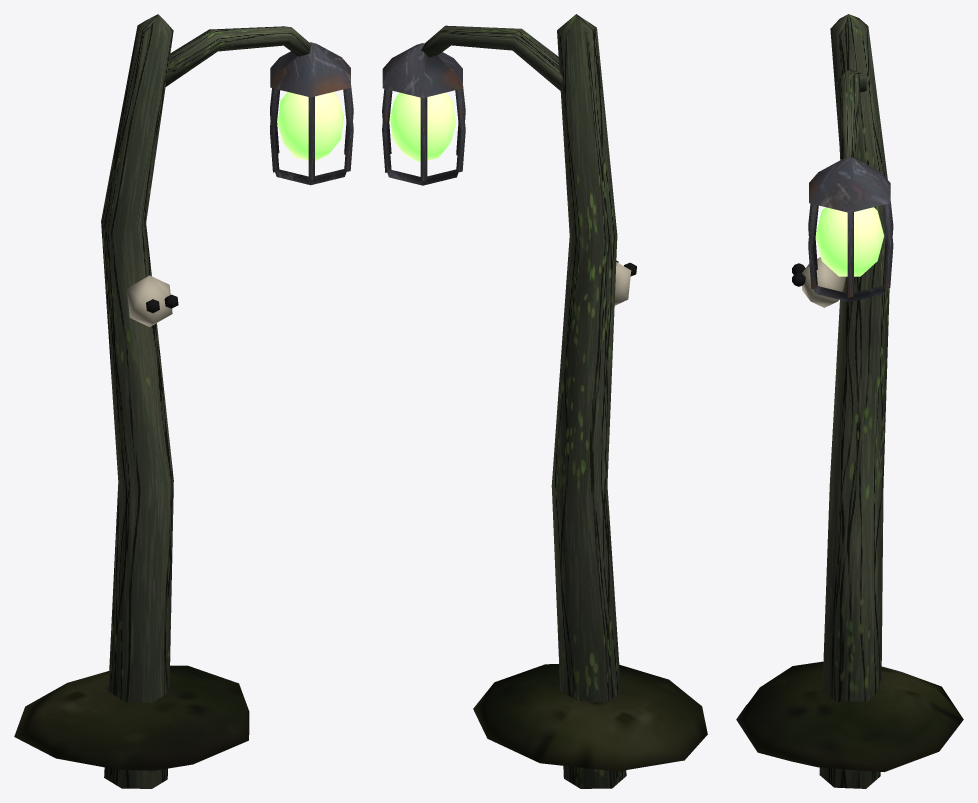
Rendered from mirewell_lantern_post.glb.
3 renders of one model, left to right at view 1: azimuth 30°, elevation 25°; view 2: azimuth 150°, elevation 25°; view 3: azimuth 270°, elevation 25°, orthographic.
Parts seen in each view (by area): view 1: mirewell_lantern_post; view 2: mirewell_lantern_post; view 3: mirewell_lantern_post.
Part boxes in pixels (x1,y1,x2,y2): mirewell_lantern_post: (14,14,353,788); mirewell_lantern_post: (382,14,707,788); mirewell_lantern_post: (736,14,963,788).
Bounding box in the file's own units: 1.04 × 2.35 × 0.6266.
6 materials, 4 textured.
